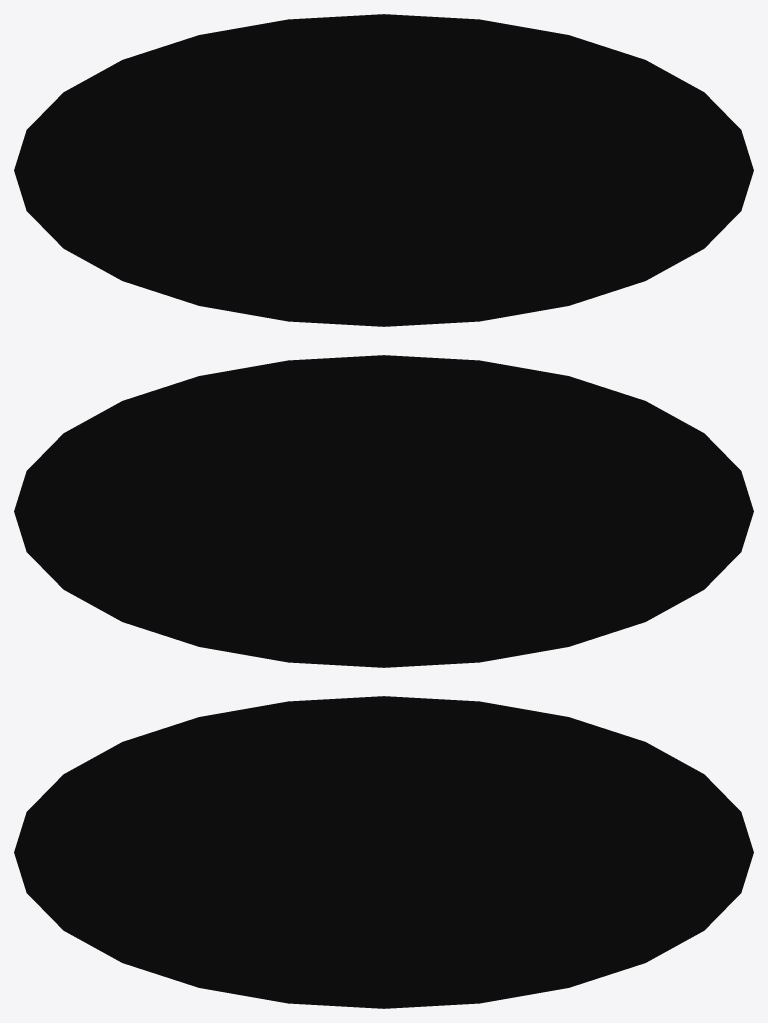
Rendered from shadow.FBX.
The picture shows the model from 3 angles, top to bottom: view 1: azimuth 30°, elevation 25°; view 2: azimuth 150°, elevation 25°; view 3: azimuth 270°, elevation 25°; orthographic projection.
Parts seen in each view (by area): view 1: shadow001; view 2: shadow001; view 3: shadow001.
Part boxes in pixels (x1=…): shadow001: x1=14, y1=14, x2=753, y2=326; shadow001: x1=14, y1=355, x2=753, y2=667; shadow001: x1=14, y1=696, x2=753, y2=1008.
Size of the model in its own units: 77.43 by 1.26e-05 by 77.43.
